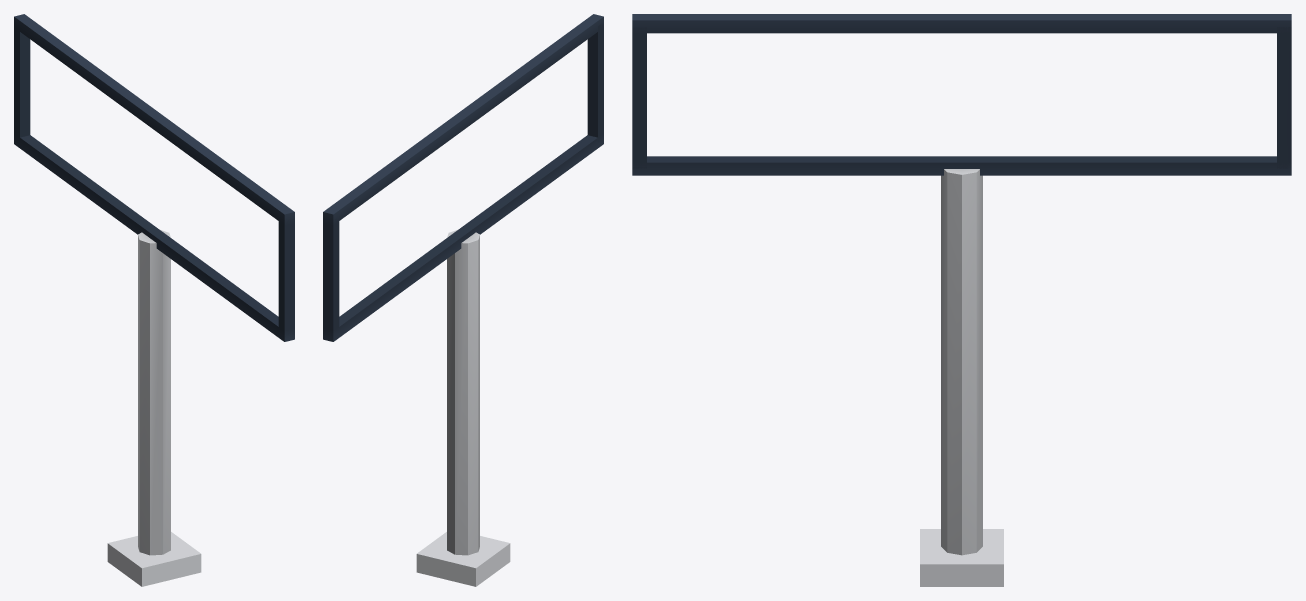
File: signpost.glb
The picture shows the model from 3 angles, left to right: view 1: azimuth 30°, elevation 25°; view 2: azimuth 150°, elevation 25°; view 3: azimuth 270°, elevation 25°; orthographic projection. The views are drawn at different scales.
Visible parts, largest first — view 1: sign_frame, pole_light; view 2: sign_frame, pole_light; view 3: sign_frame, pole_light.
Part boxes in pixels (<box>): sign_frame: <box>14,14,294,341</box>; pole_light: <box>107,230,201,586</box>; sign_frame: <box>323,14,603,341</box>; pole_light: <box>416,230,510,586</box>; sign_frame: <box>632,14,1291,175</box>; pole_light: <box>920,169,1003,586</box>.
Size of the model in its own units: 0.8 by 5.82 by 6.3.
